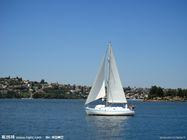fanchuan: (80, 39, 137, 120)
